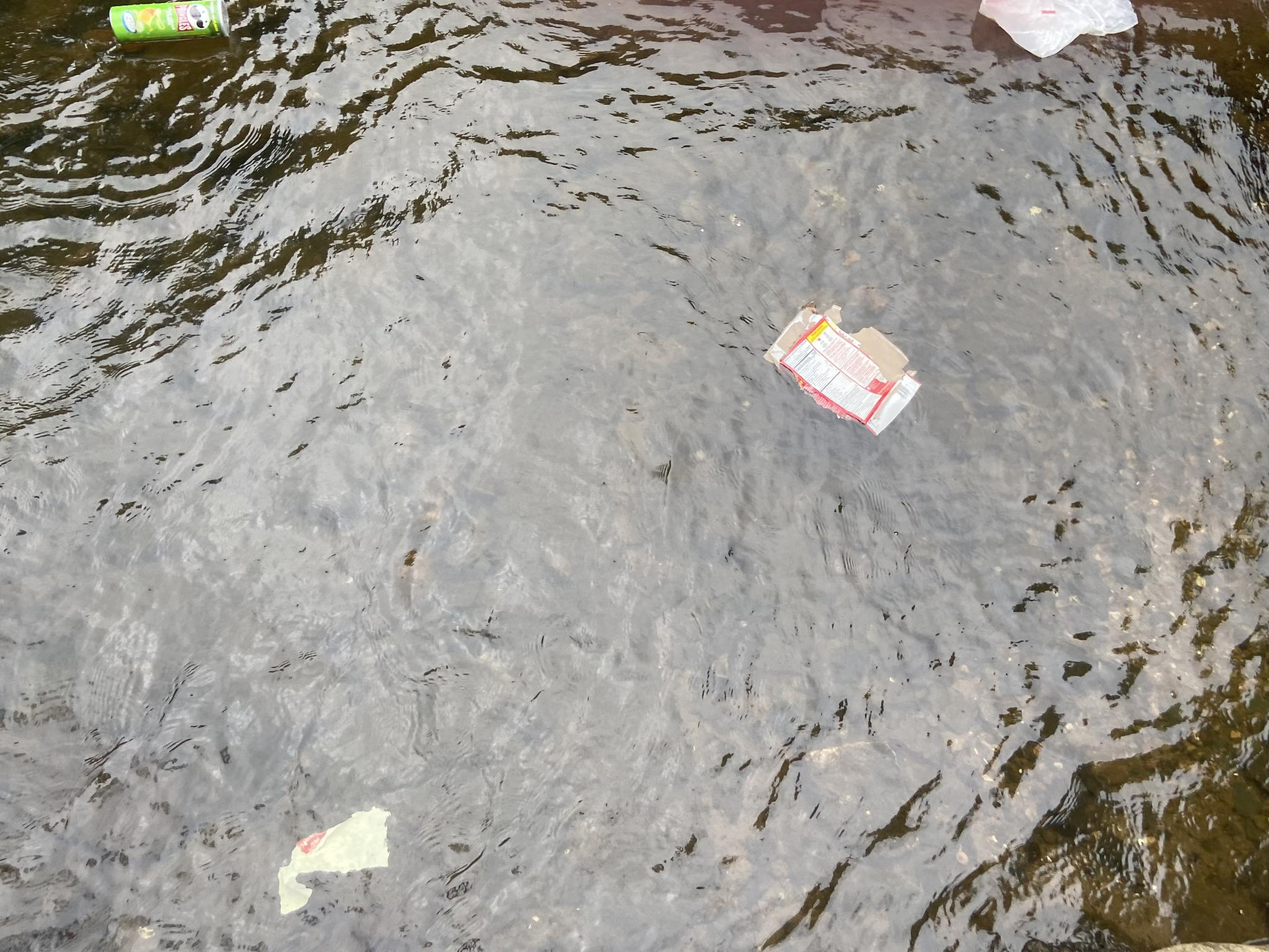cardboard: (748, 296, 931, 444)
metal: (95, 0, 241, 49)
plastic: (263, 796, 403, 927), (962, 0, 1154, 66)
